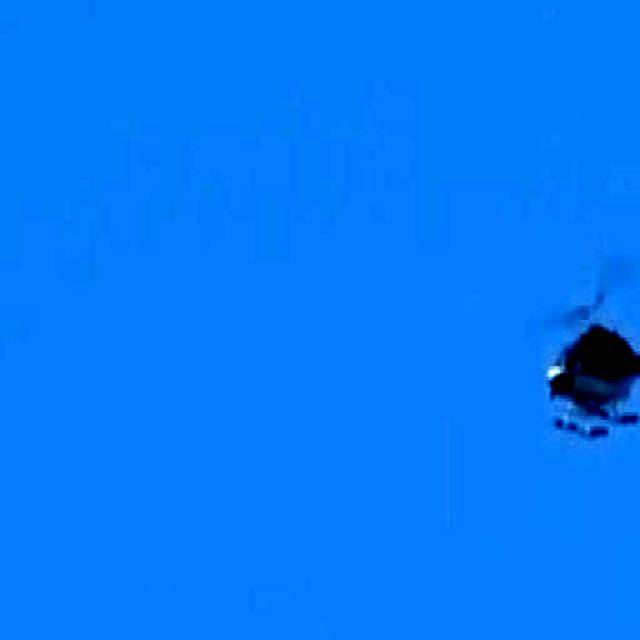drone: (516, 255, 640, 440)
